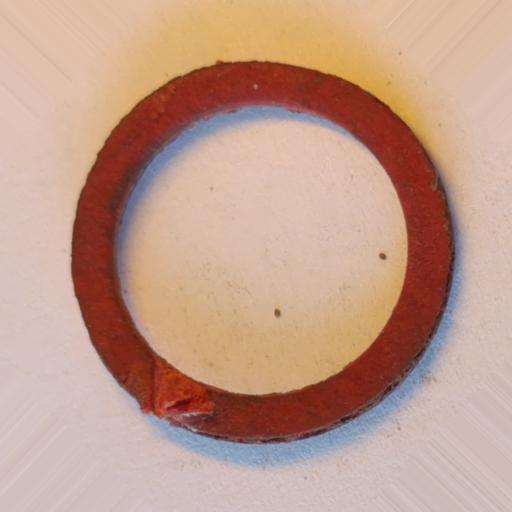defect: (140, 358, 216, 426)
